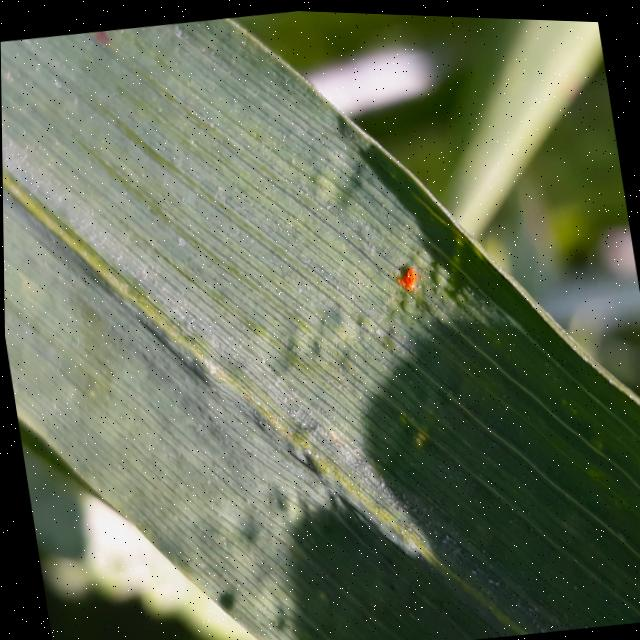orang_rust: (320, 190, 468, 346)
